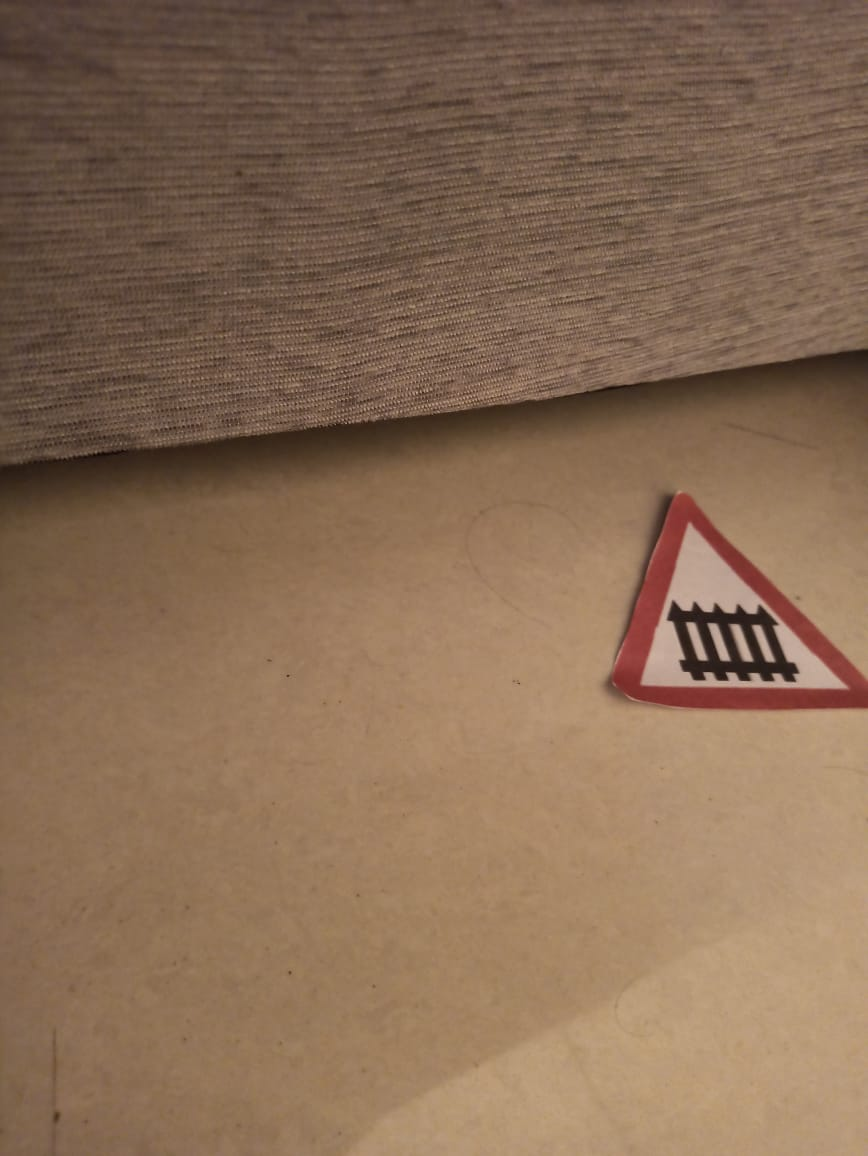GUARDED LEVEL CROSSING: (595, 475, 868, 752)
